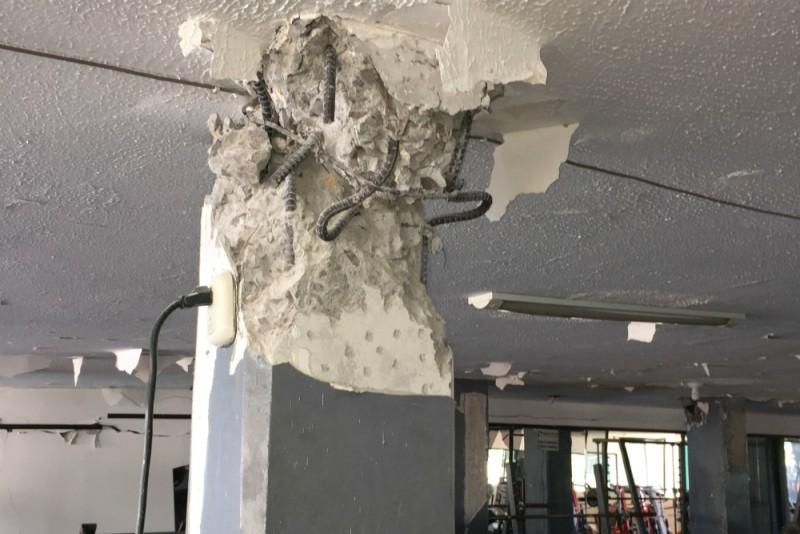exposed_rebar: (251, 77, 492, 241), (323, 44, 338, 123), (420, 236, 430, 284)
spalling: (204, 14, 493, 400), (684, 400, 709, 429)
